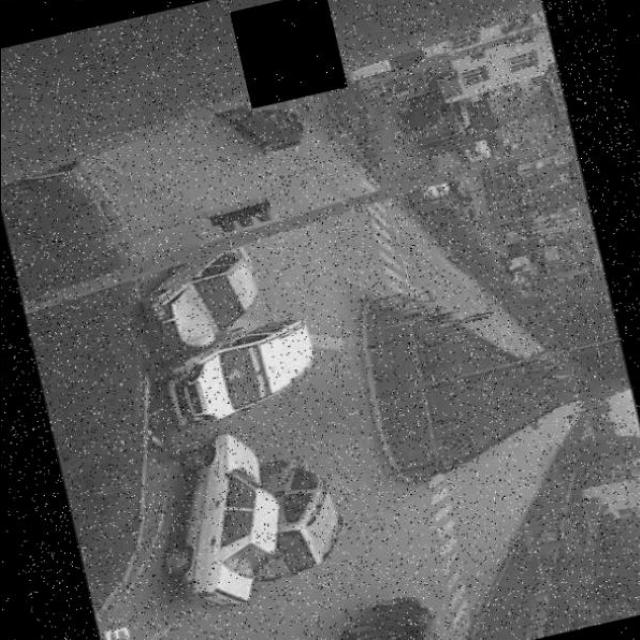accident: (136, 407, 364, 624), (123, 223, 338, 438)
